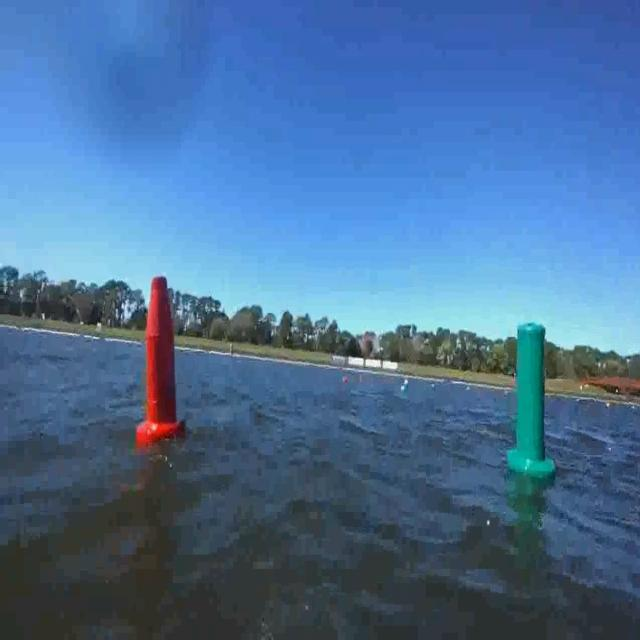green-column-buoy: (505, 321, 552, 483)
red-column-buoy: (136, 271, 182, 444)
